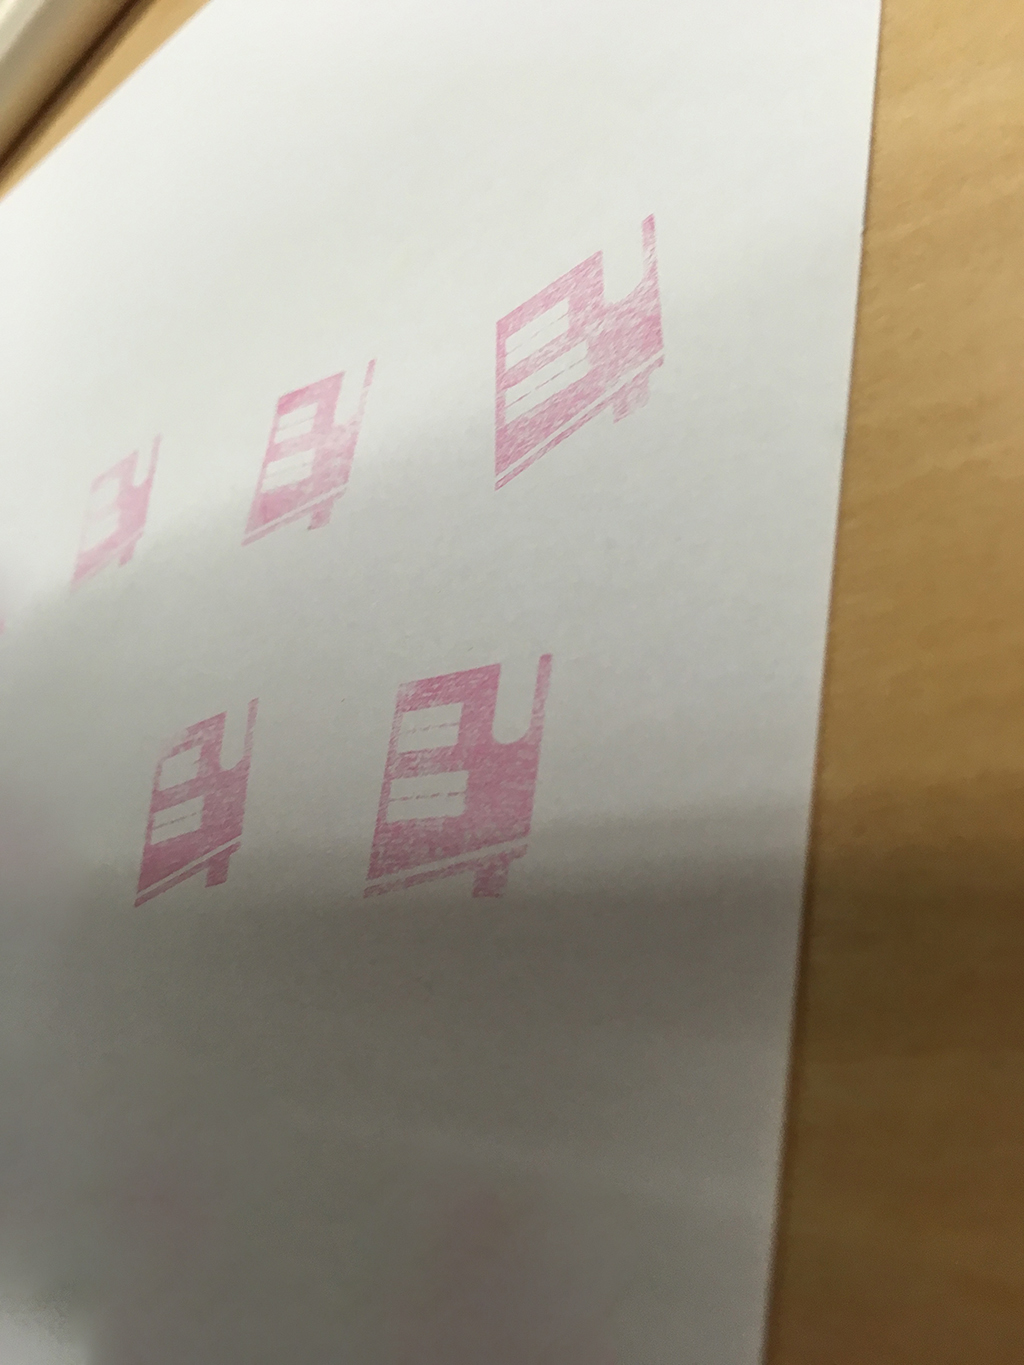house: (474, 201, 689, 502), (358, 640, 563, 923), (113, 683, 267, 918), (239, 361, 379, 561), (58, 424, 177, 621)
